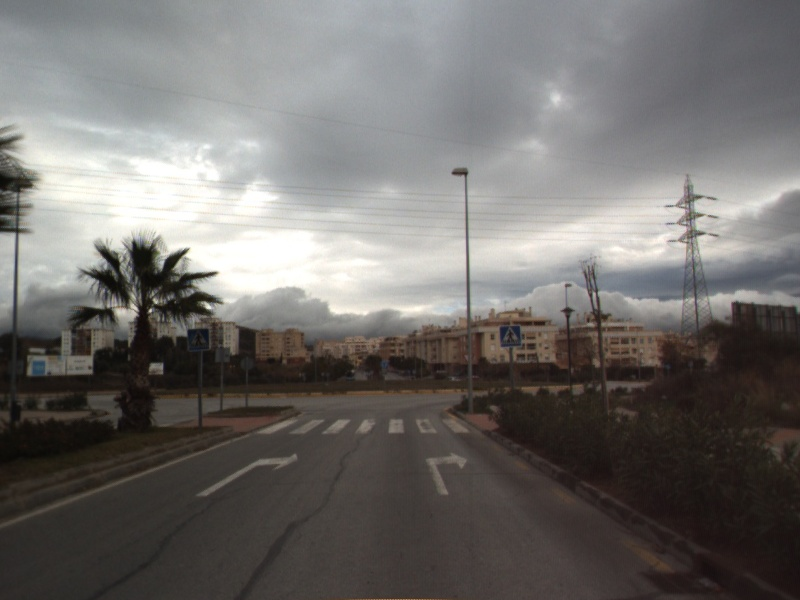RIGHT: (194, 452, 300, 498), (423, 450, 470, 497)
